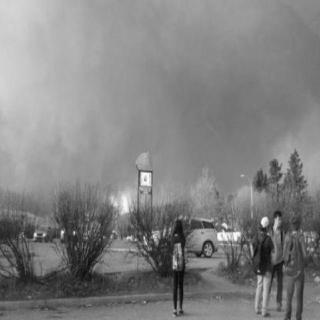Fire: (114, 190, 132, 214)
other: (135, 147, 153, 171)
